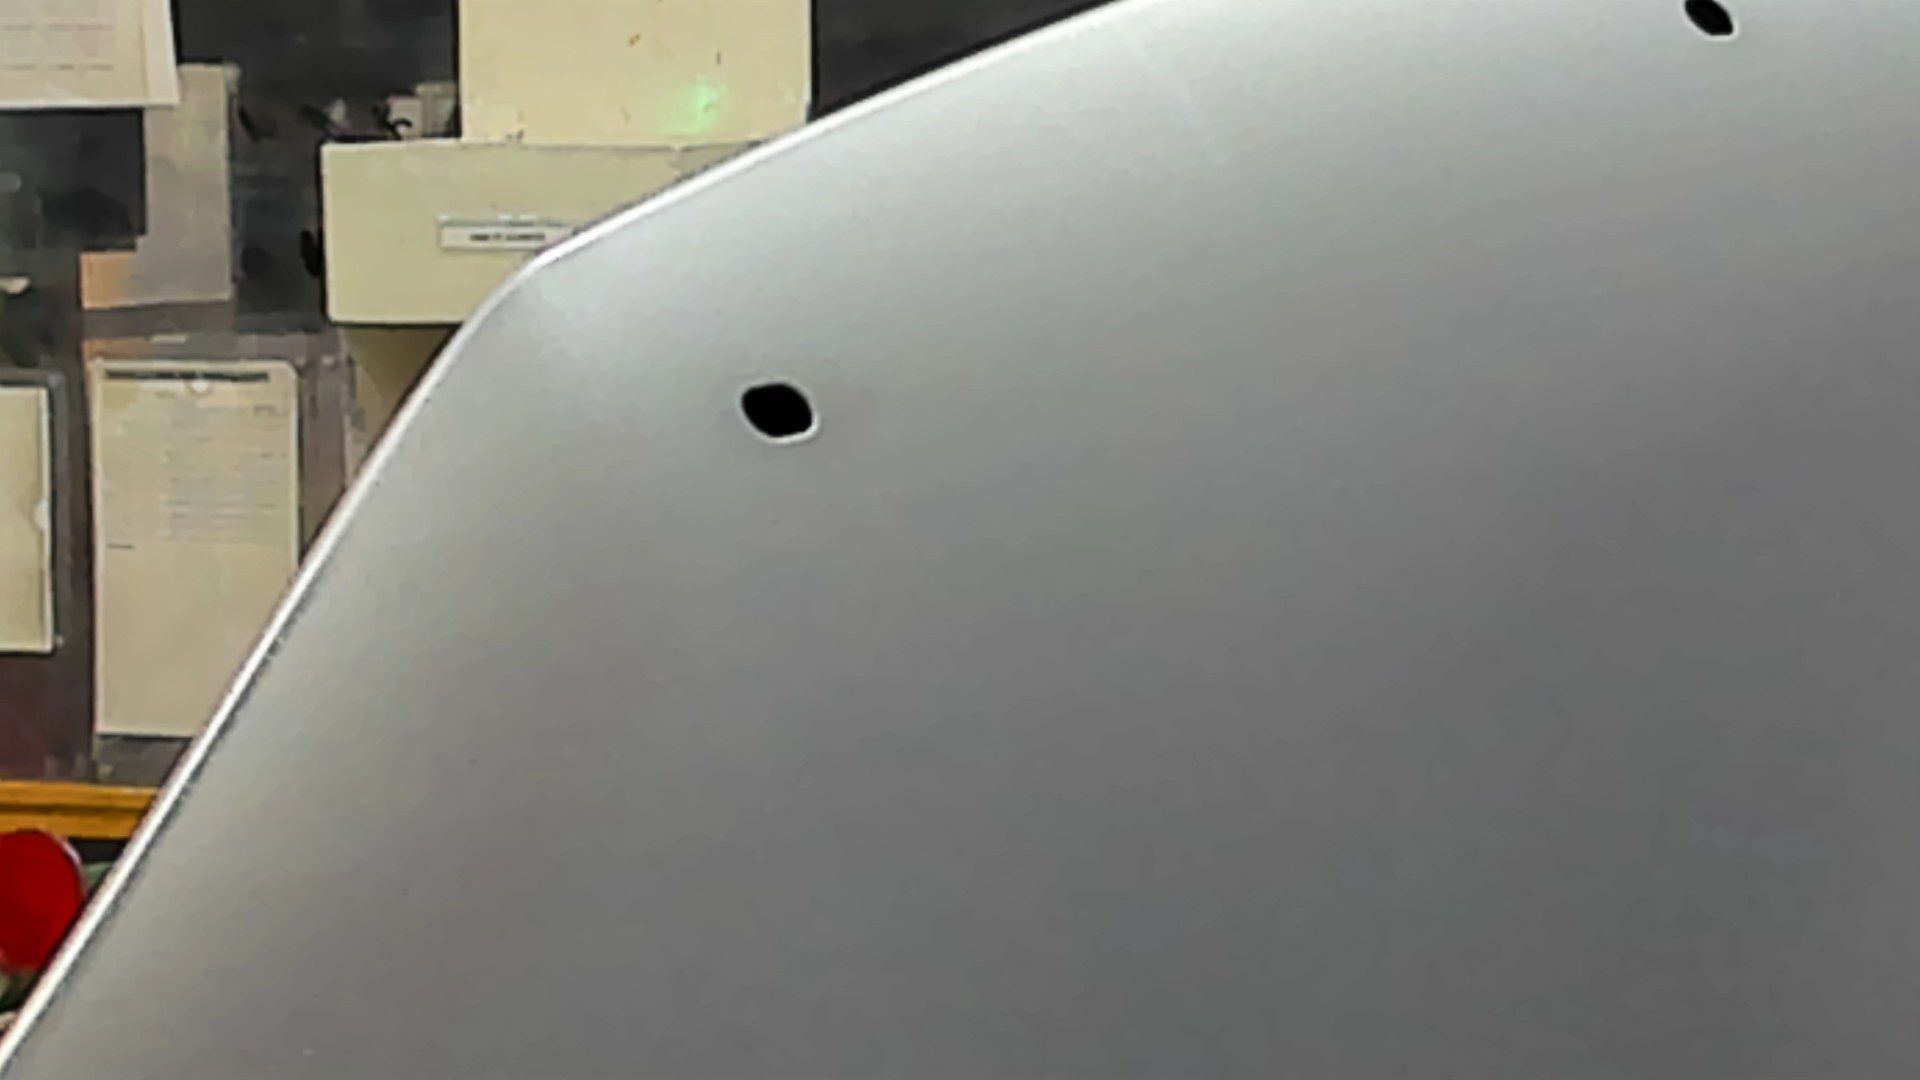chico: (723, 364, 827, 448), (1677, 1, 1742, 44)
